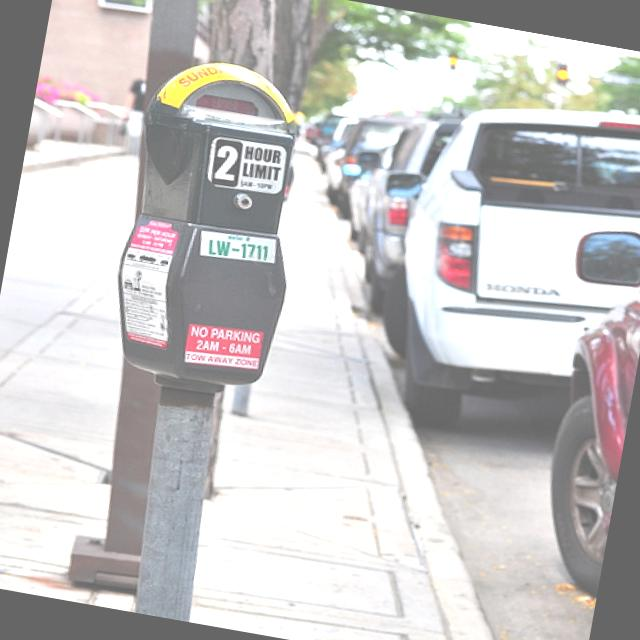Vehicle: (372, 72, 640, 465), (514, 223, 640, 597), (323, 101, 462, 323), (330, 108, 415, 217), (311, 117, 359, 206), (310, 108, 359, 143)
